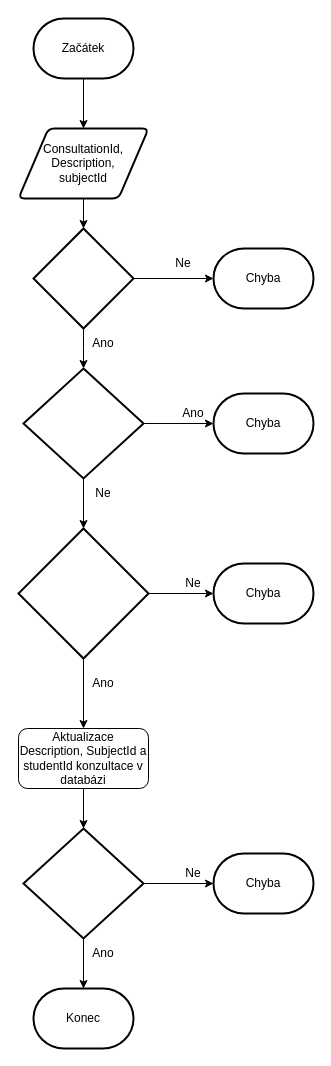
The diagram is 331 pixels wide and 1066 high, and some of its shapes have lost their labels. The box of each missing label's shape, as (x1, y1, x2, y2) in pixels:
Byla aktualizace úspěšná?: (22, 827, 144, 939)
Existuje konzultace v databázi?: (32, 227, 134, 329)
Existuje předmět v databázi?: (17, 527, 149, 659)
Má konzultace přiřazeného studenta?: (22, 367, 144, 479)
